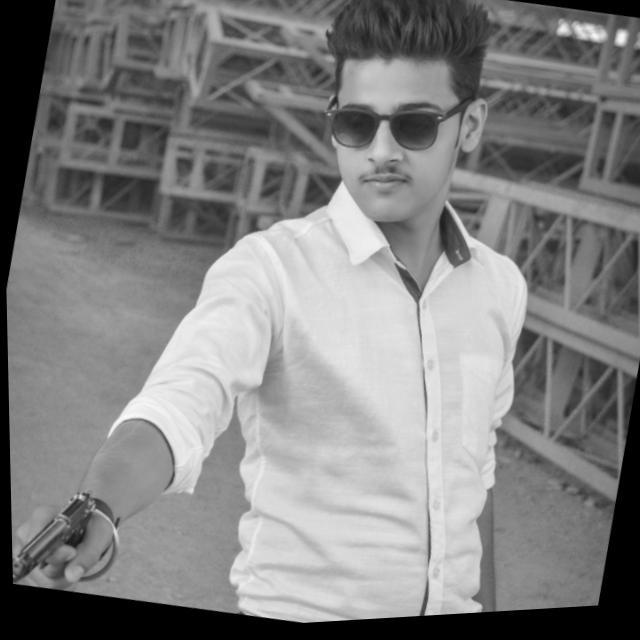weapon: (9, 472, 124, 602)
